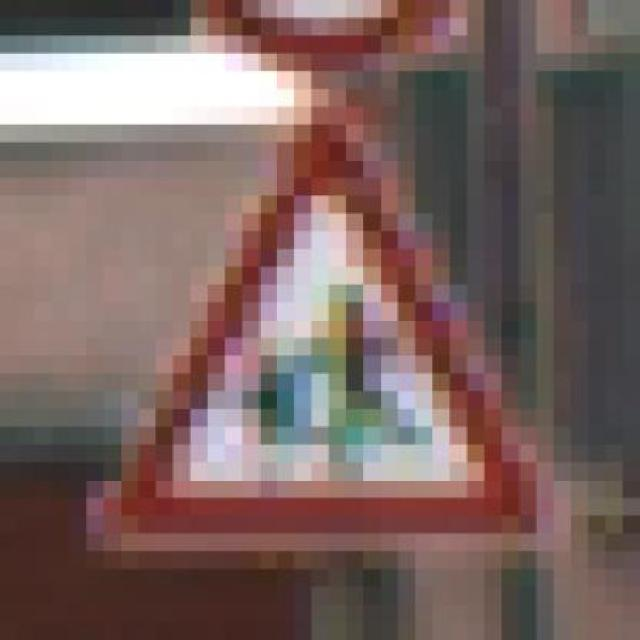Beware of children: (86, 107, 554, 551)
